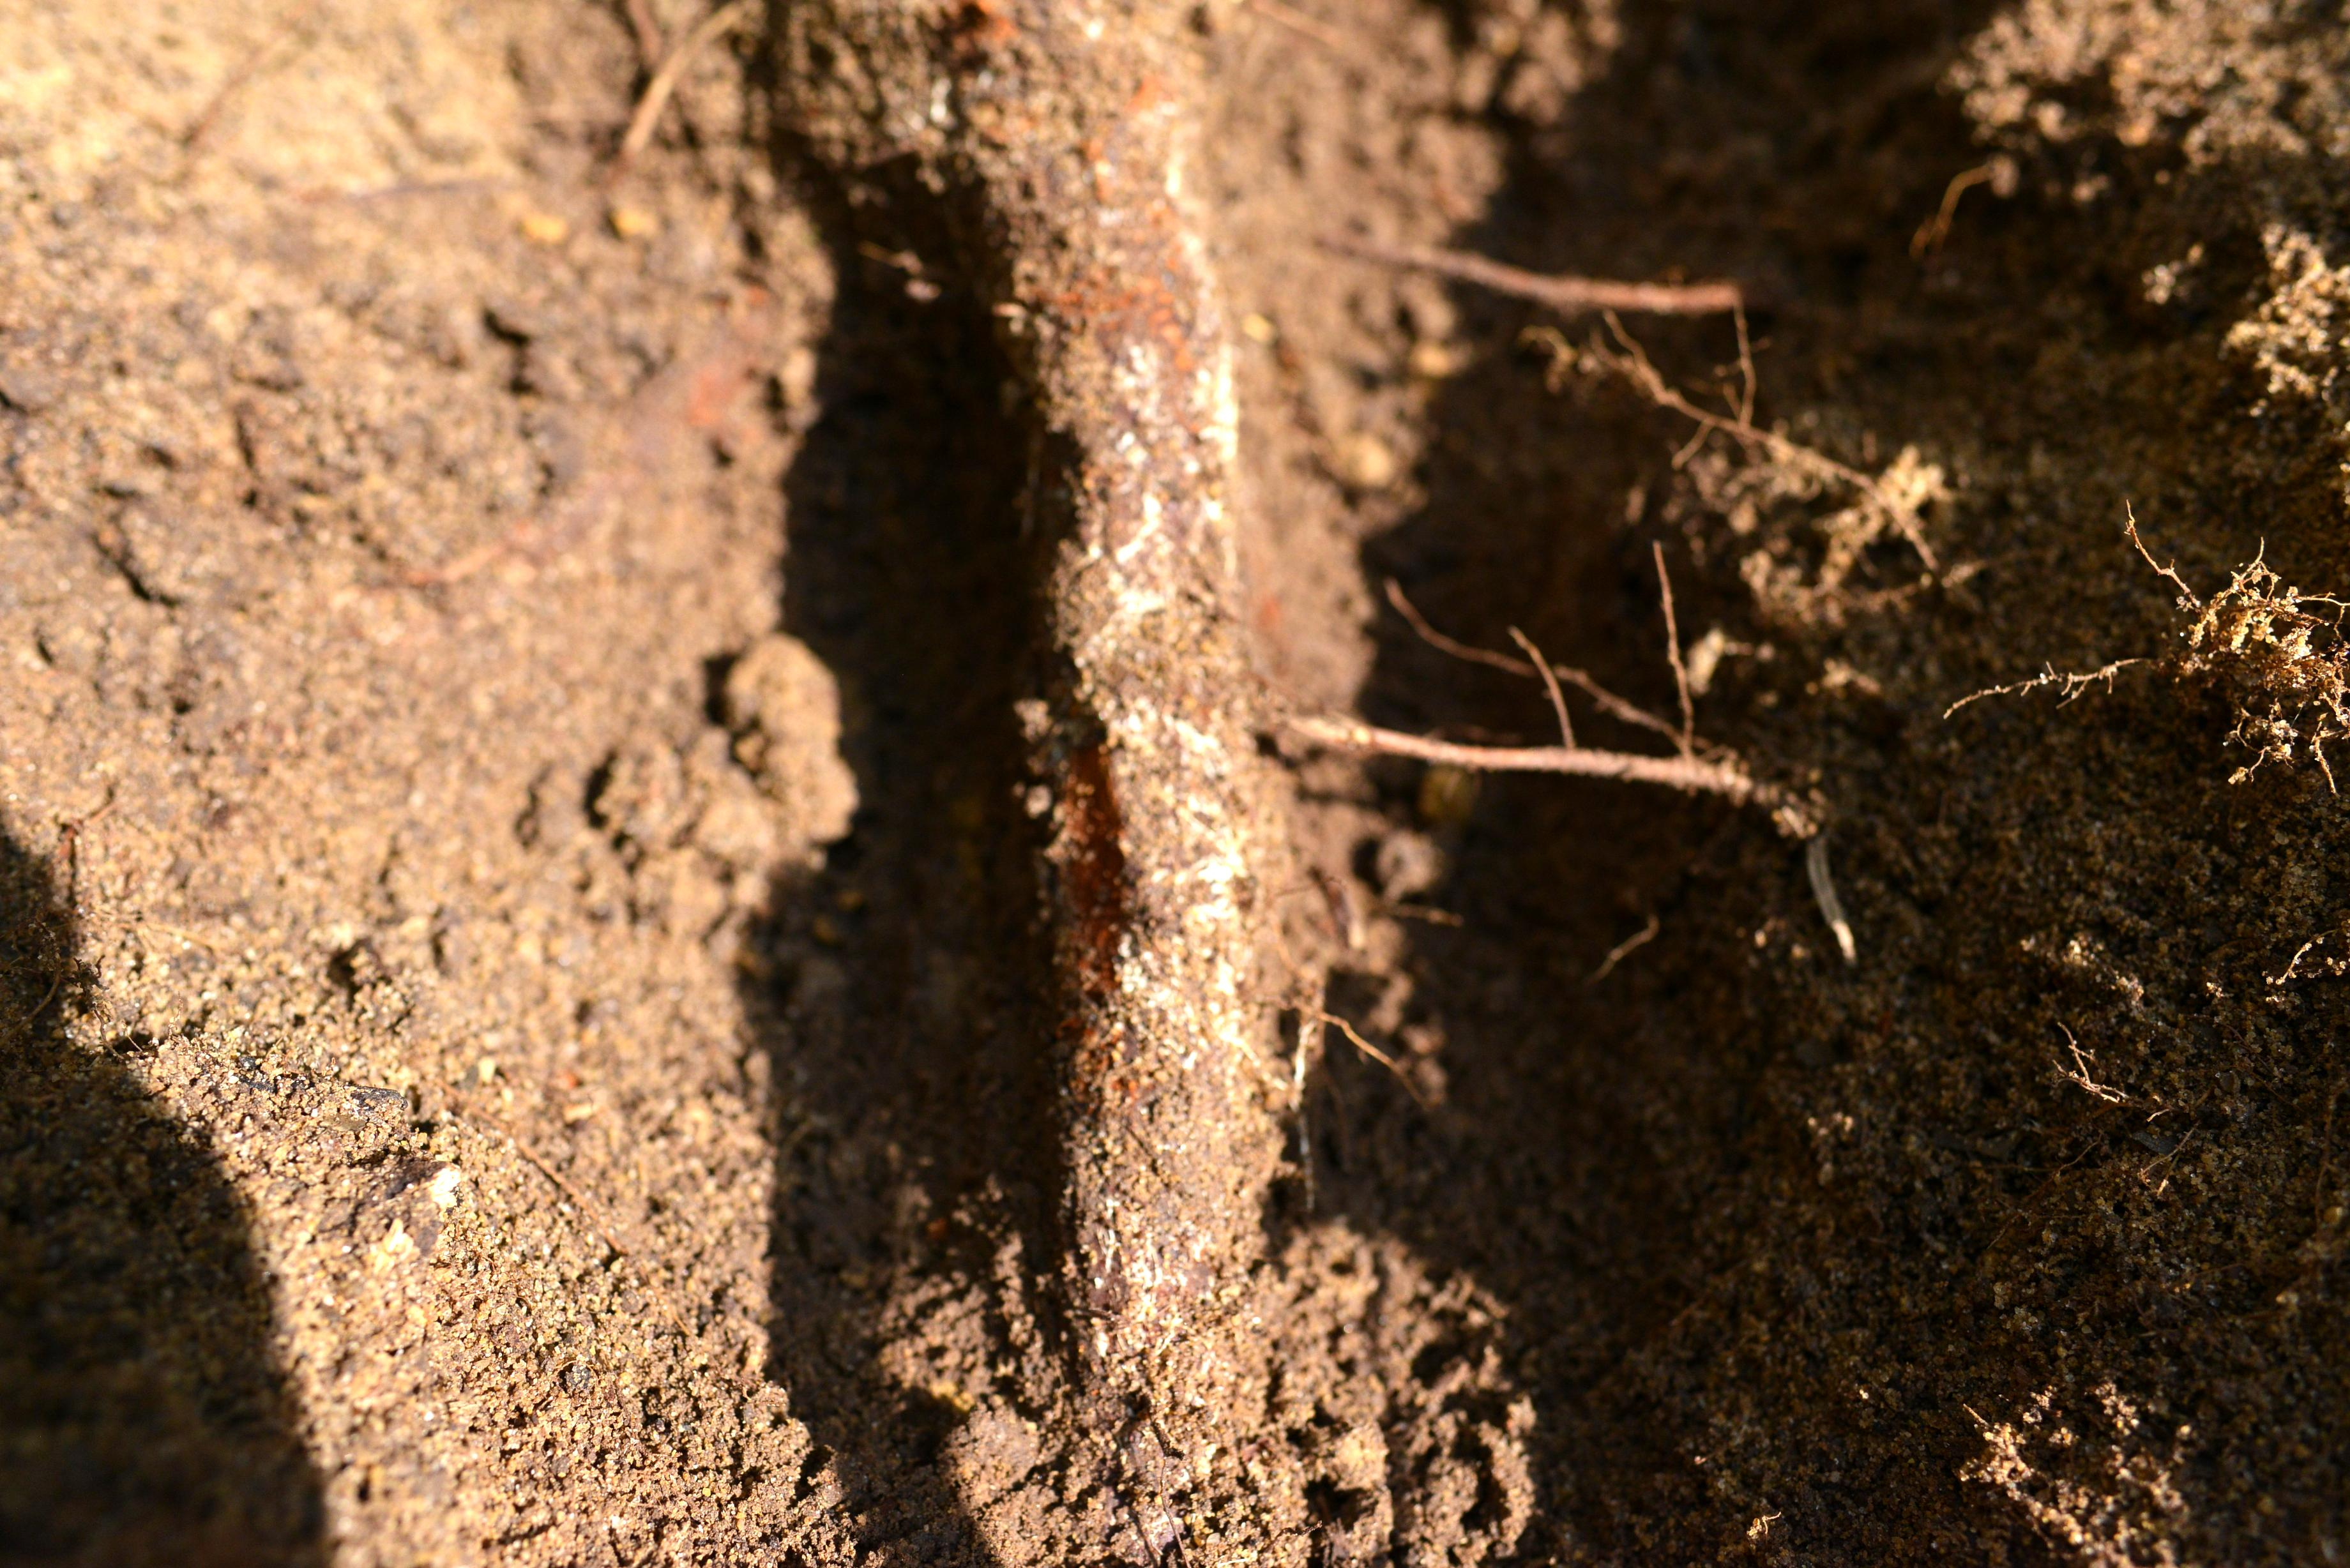Ganoderma - Mycelium: (1055, 0, 1248, 1302), (878, 54, 980, 215)
